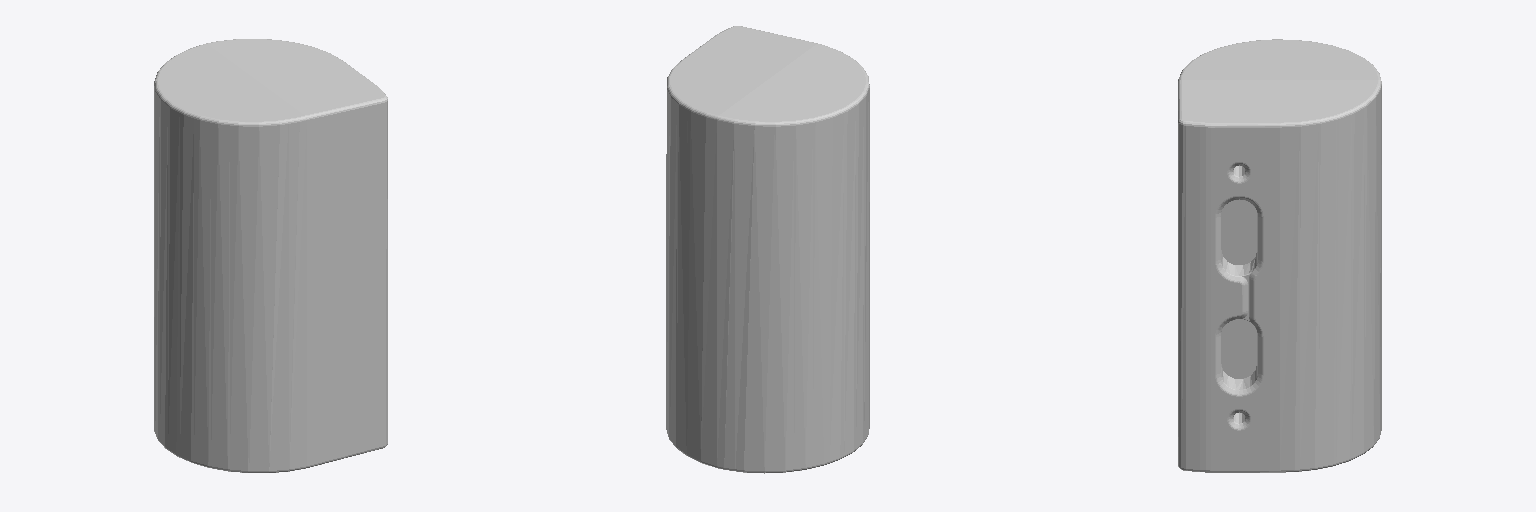
The model's file is head_tilt_link.obj.
3 views of the same model, side by side, from view 1: azimuth 30°, elevation 25°; view 2: azimuth 150°, elevation 25°; view 3: azimuth 270°, elevation 25° (orthographic).
Visible parts, largest first — view 1: obj1; view 2: obj1; view 3: obj1.
Part boxes in pixels (x1,y1,x2,y2): obj1: (154,39,387,472); obj1: (666,26,869,473); obj1: (1178,39,1381,472).
Size of the model in its own units: 0.1099 by 0.21 by 0.11.